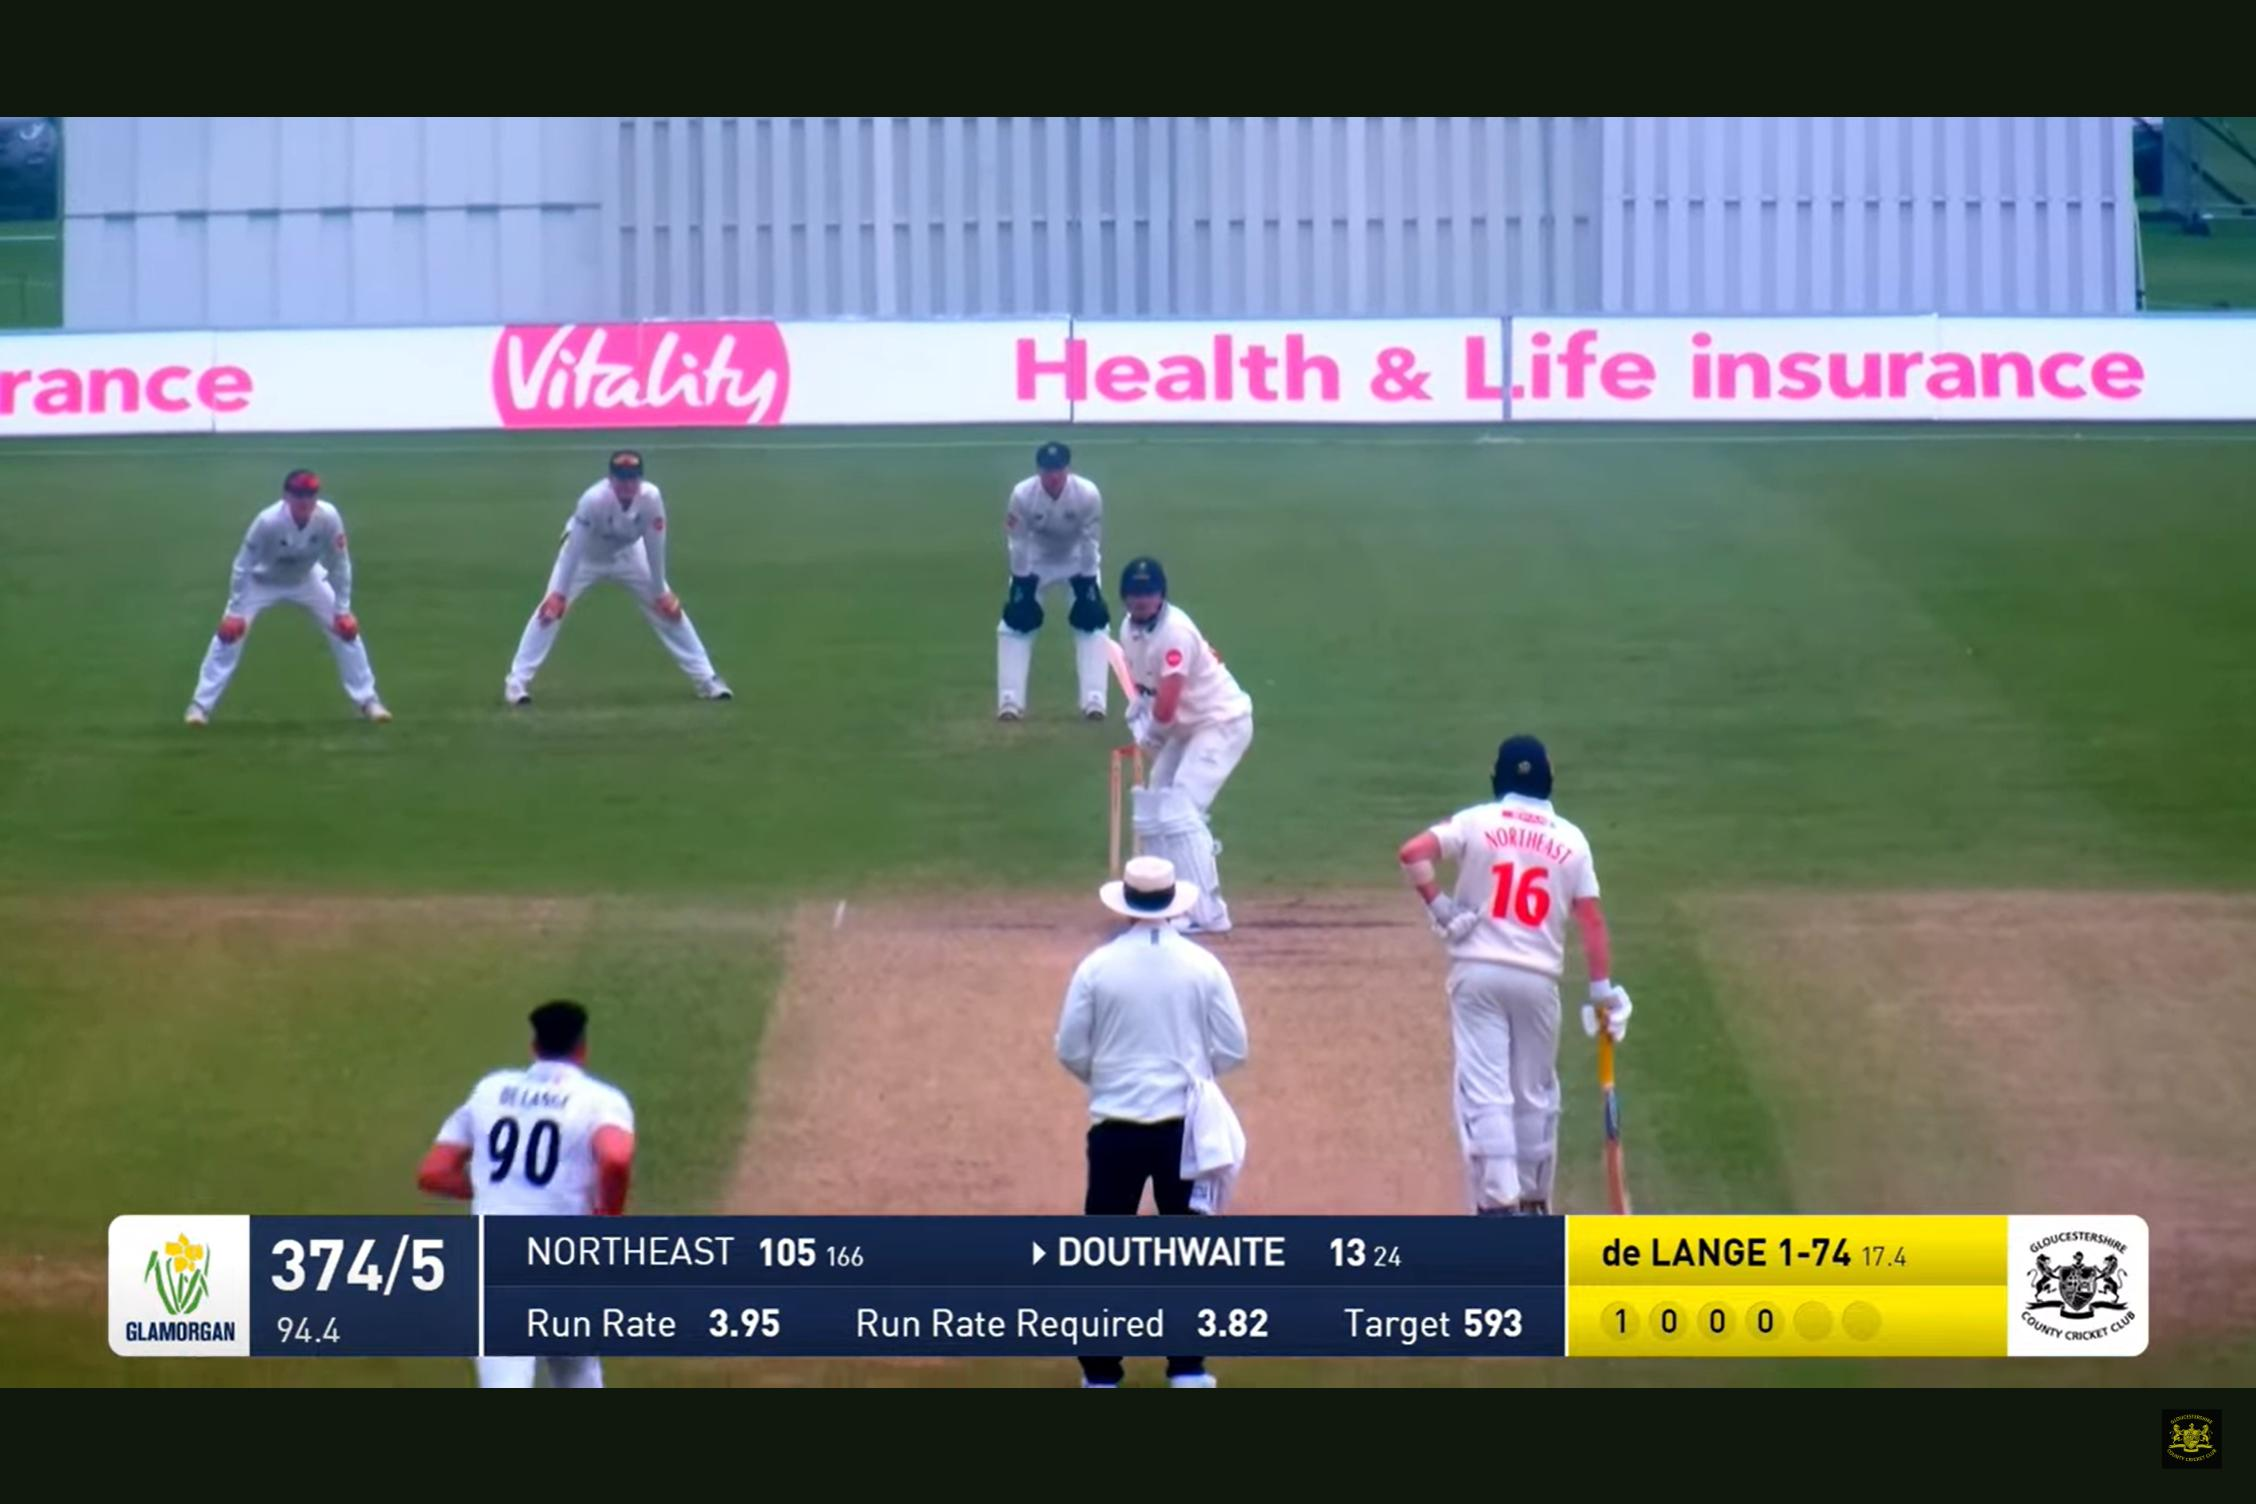batsman: (1099, 540, 1244, 896)
bowler running in: (406, 979, 676, 1204)
non striker: (1346, 708, 1655, 1188)
umpire: (1071, 908, 1269, 1214)
